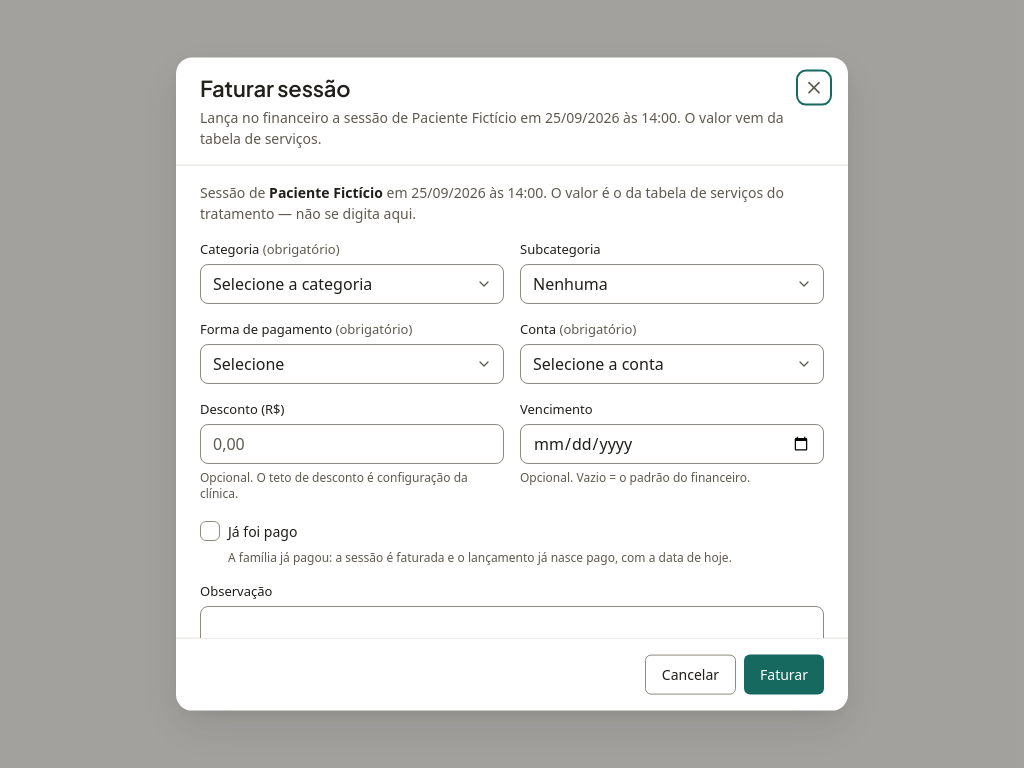
Test: Faturar sessão — faturar já pago › deve mandar pagar_agora: true e anunciar "Sessão faturada e paga"
The image size is (1024, 768).
Select "Atendimentos" in the dropdown labelled "Categoria (obrigatório)" at (352, 283), box top-left (200, 263), bottom-right (504, 303)
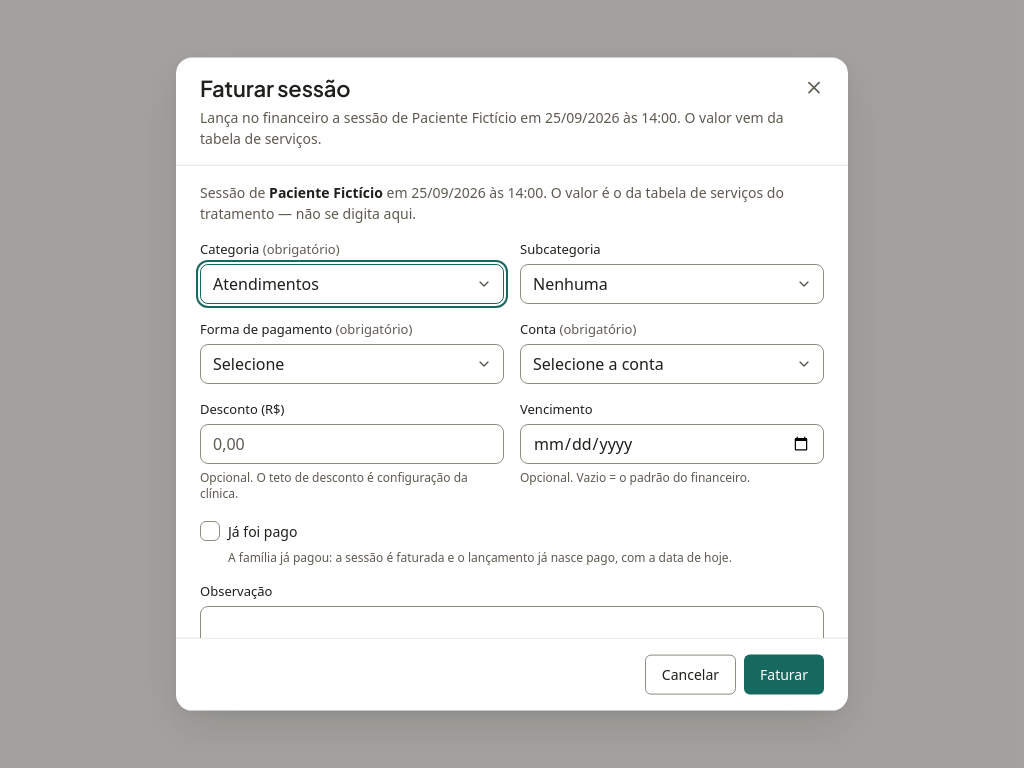
Select "Pix" in the dropdown labelled "Forma de pagamento (obrigatório)" at (352, 364), box top-left (200, 344), bottom-right (504, 384)
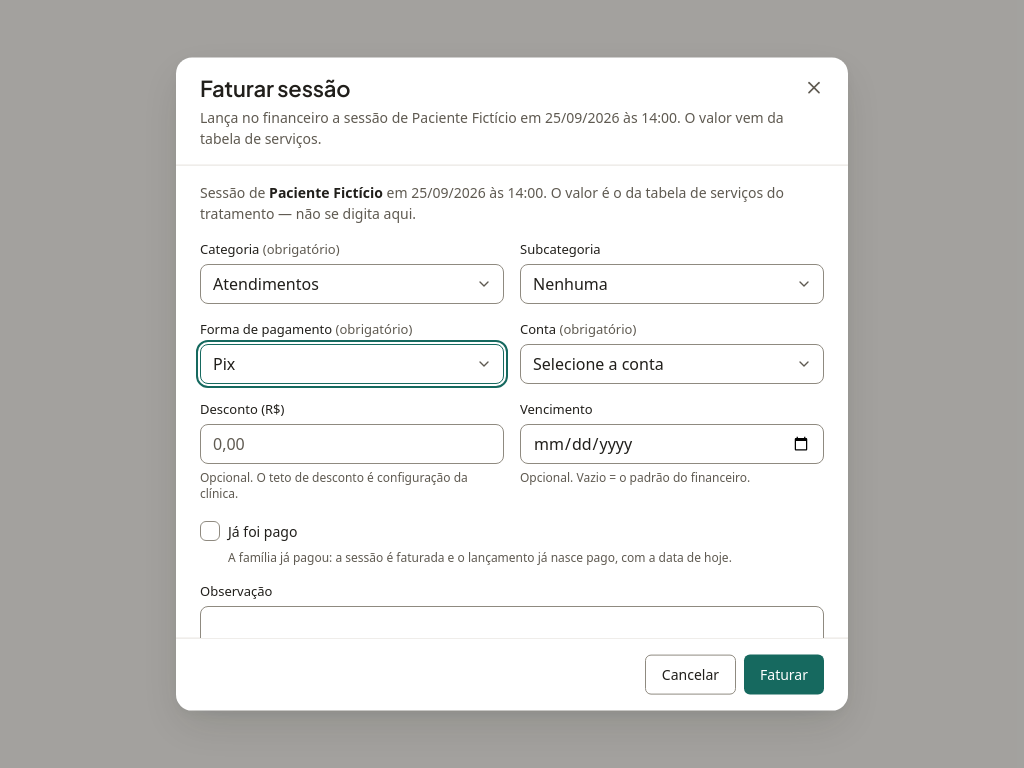
Select "Caixa da recepção" in the dropdown labelled "Conta (obrigatório)" at (672, 364), box top-left (520, 344), bottom-right (824, 384)
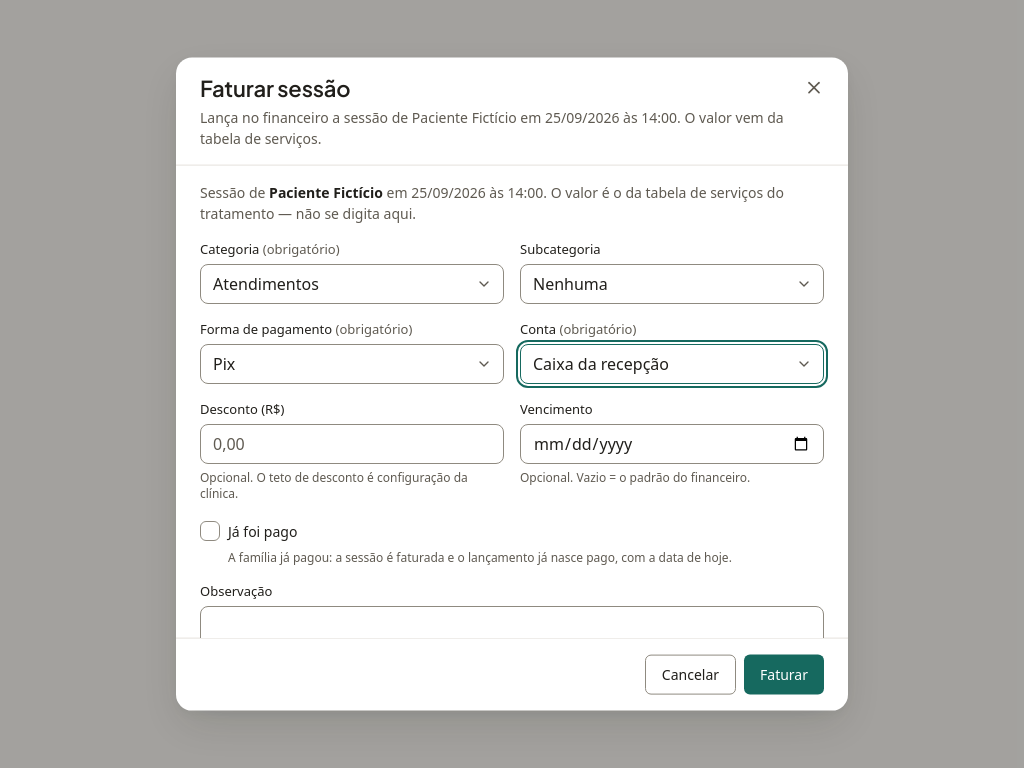
Click the checkbox named "Já foi pago" at (210, 531), box top-left (200, 521), bottom-right (220, 541)
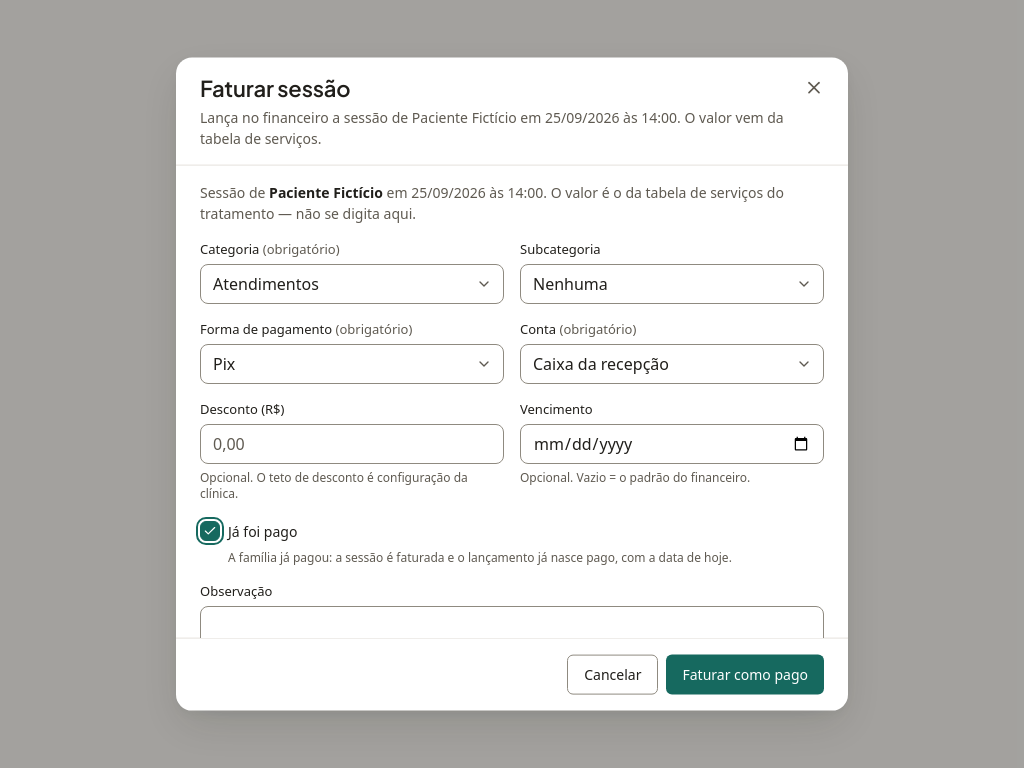
Click the button "Faturar como pago" at (745, 674), box top-left (666, 654), bottom-right (824, 694)
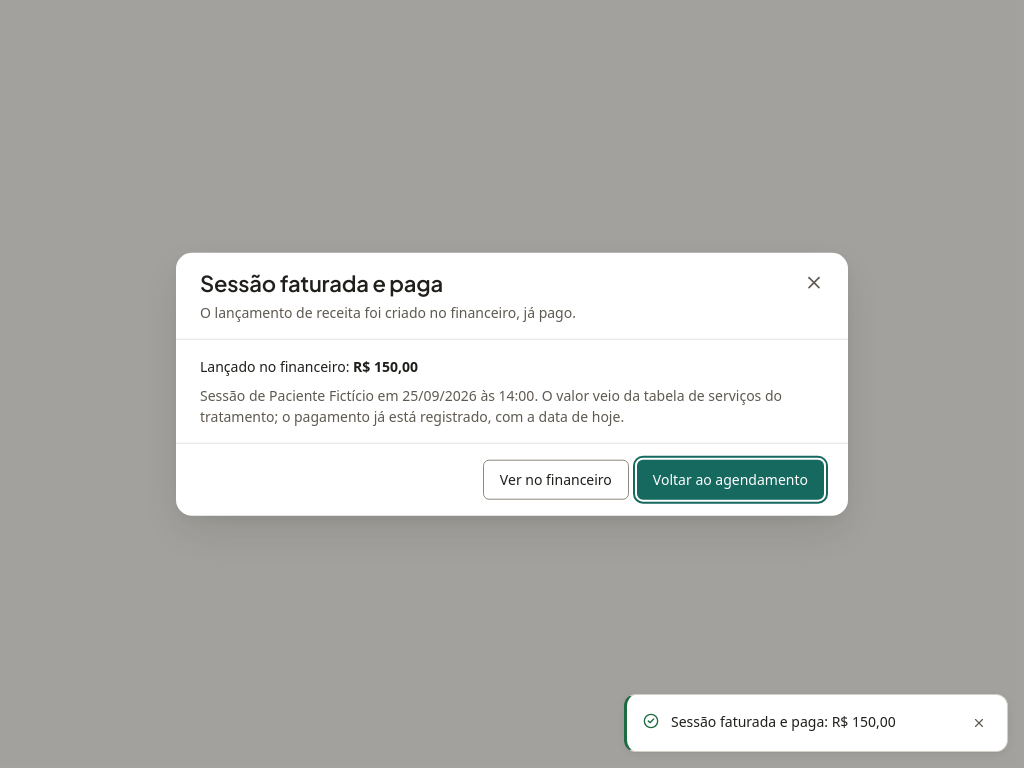
Now the text "o pagamento já está registrado" is shown, box top-left (282, 406), bottom-right (624, 425)
